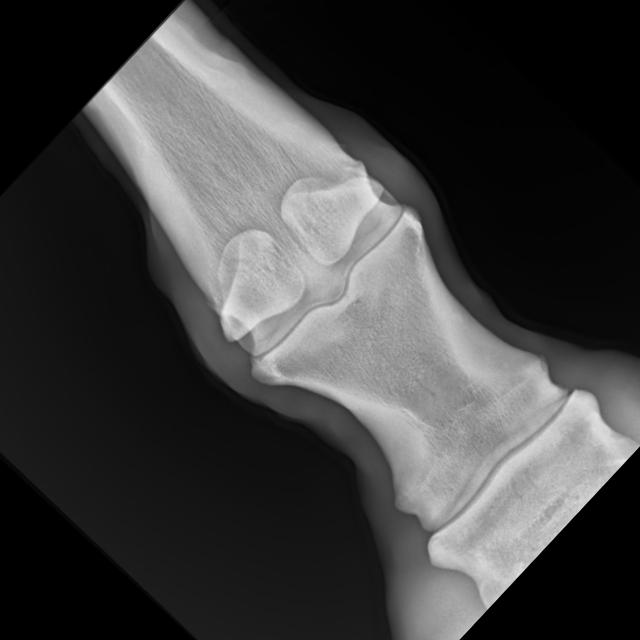joint-ht8A: (94, 34, 548, 493)
